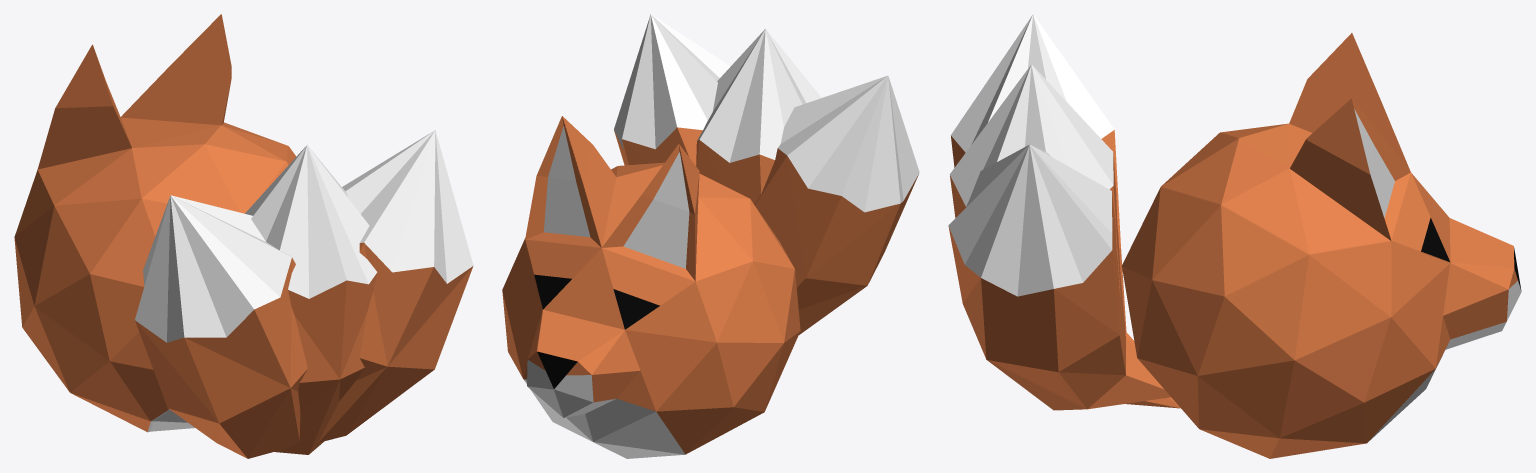
The model's file is Fox.glb.
The picture shows the model from 3 angles, left to right: view 1: azimuth 30°, elevation 25°; view 2: azimuth 150°, elevation 25°; view 3: azimuth 270°, elevation 25°; orthographic projection. The views are drawn at different scales.
Parts seen in each view (by area): view 1: Fox_F2, Fox_F1, Fox_F0; view 2: Fox_F2, Fox_F1, Fox_F0; view 3: Fox_F1, Fox_F0, Fox_F2.
Boxes of the visible parts, bbox=[...] form: Fox_F2: bbox=[14, 14, 377, 454]; Fox_F1: bbox=[94, 16, 307, 458]; Fox_F0: bbox=[71, 15, 473, 442]; Fox_F2: bbox=[525, 29, 821, 454]; Fox_F1: bbox=[502, 75, 919, 451]; Fox_F0: bbox=[525, 14, 754, 458]; Fox_F1: bbox=[951, 14, 1521, 458]; Fox_F0: bbox=[948, 47, 1338, 410]; Fox_F2: bbox=[949, 33, 1521, 408].
Bounding box in the file's own units: 2.22 × 2.43 × 3.37.
